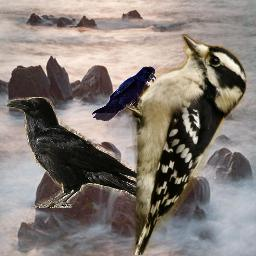Crow: (6, 97, 156, 208), (92, 66, 156, 121)
Woodpecker: (126, 34, 247, 255)
